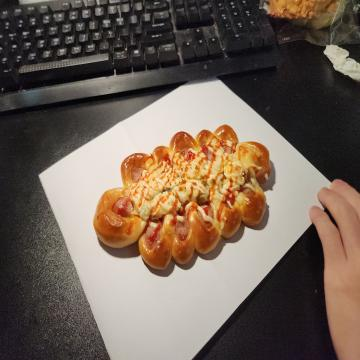pizza_bread: (94, 122, 270, 268)
